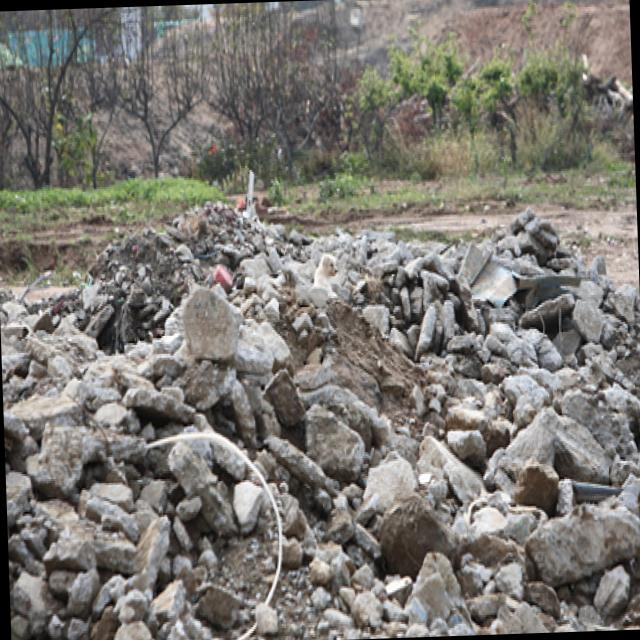grass: (253, 159, 636, 220), (0, 177, 245, 235)
red-sand: (0, 206, 164, 281), (529, 202, 639, 290), (297, 199, 525, 237)
rocks: (0, 202, 640, 640)
